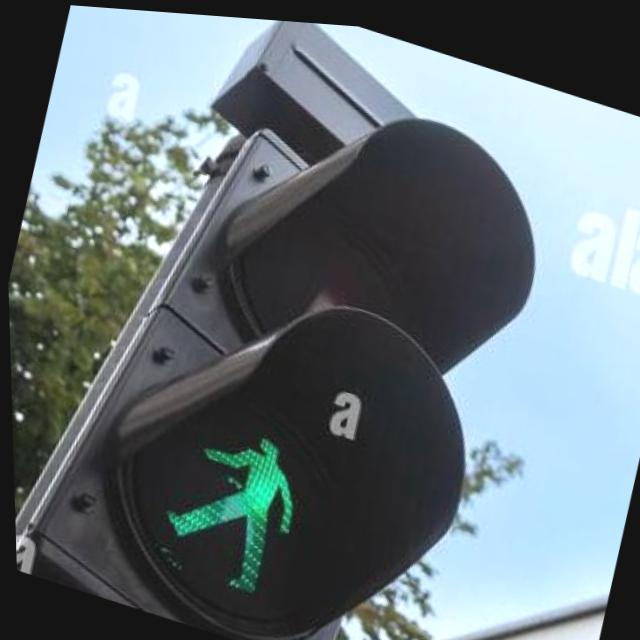green_light: (158, 386, 314, 605)
